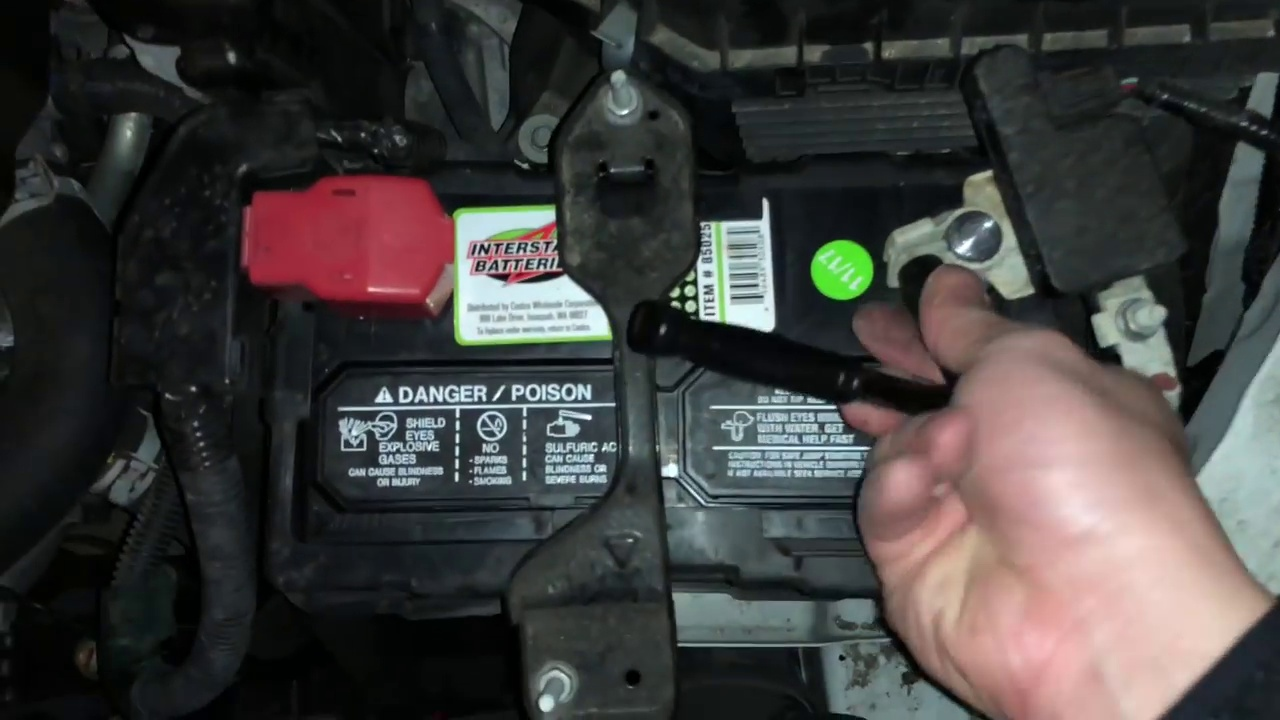battery: (254, 154, 1037, 588)
neg_connected: (866, 145, 1041, 322)
neg_touched: (861, 178, 1077, 499)
pos_connected: (247, 166, 494, 341)
